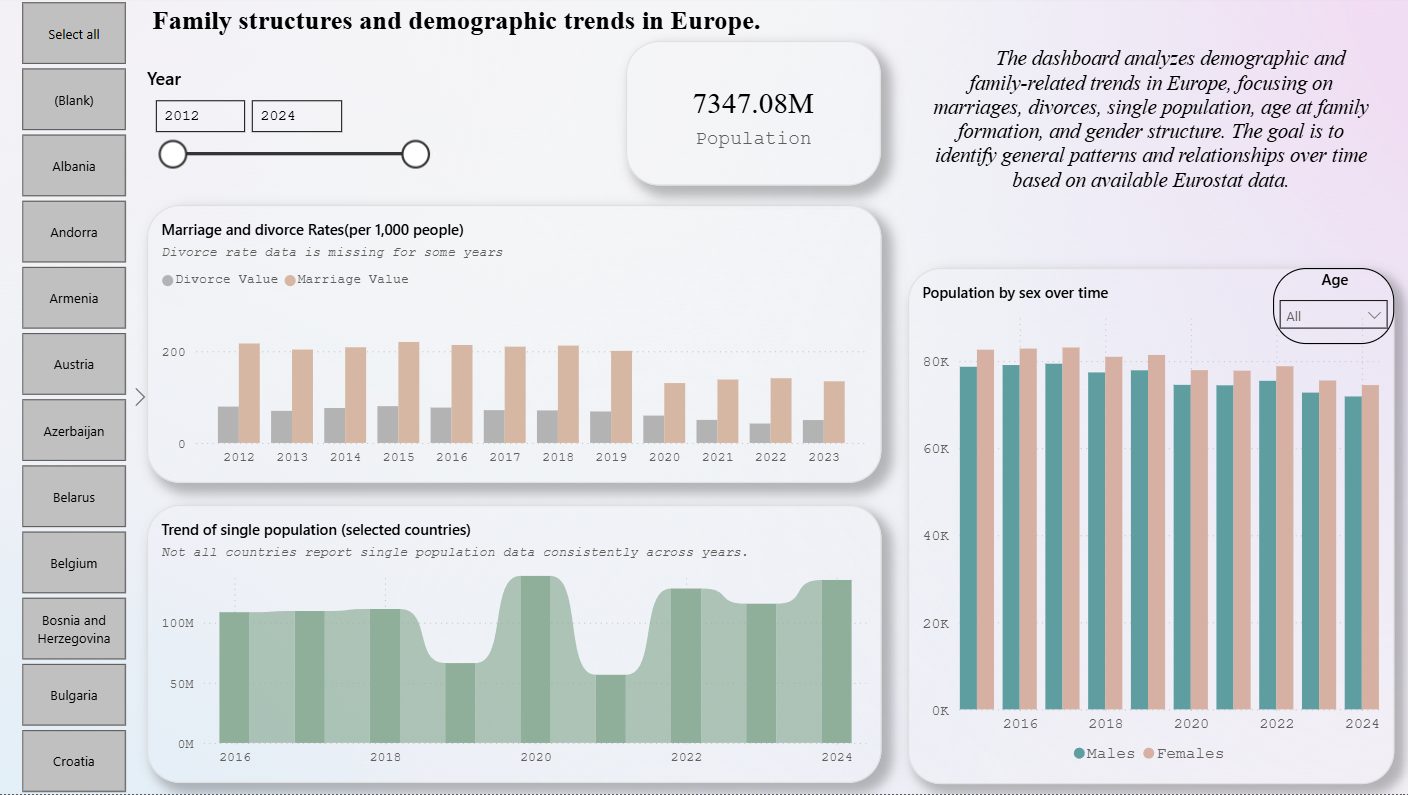

Layout of this report page (visuals, bound fields, positions):
{"tool":"powerbi","page":{"name":"Overview","canvas":[1280,720],"ordinal":0},"visuals":[{"type":"lineClusteredColumnComboChart","title":"Marriage and divorce Rates(per 1,000 people)","fields":{"Category":["Year.Year"],"Y":["Divorce rate.Divorce Value","Marriage rate.Marriage Value"]},"box":[134.2,185.9,665.6,252.1],"z":0},{"type":"slicer","fields":{"Values":["Geo.Geo"]},"box":[0,0,134,720],"z":1000},{"type":"ribbonChart","title":"Trend of single population (selected countries)","fields":{"Category":["Year.Year"],"Y":["Singles.Single Value"]},"box":[134.2,457.9,665.6,252.1],"z":2000},{"type":"slicer","title":"Year","fields":{"Values":["Year.Year"]},"box":[134.2,59.4,278.1,109.3],"z":3000},{"type":"clusteredColumnChart","title":"Population by sex over time","fields":{"Category":["Year.Year"],"Series":["Age/sex.Sex"],"Y":["Avg(Age/sex.Value)"]},"box":[824.6,242.6,441,467.9],"z":4000},{"type":"slicer","title":"Age","fields":{"Values":["Age/sex.age"]},"box":[1155.4,242.6,110.3,69],"z":5000},{"type":"card","fields":{"Values":["Sum(Population.Value)"]},"box":[568.6,37.4,231.1,131.4],"z":6000},{"type":"textbox","box":[837,37.4,415.2,148.6],"z":7000},{"type":"textbox","box":[134.2,0,616.6,59.8],"z":8000}]}

Visuals, with their boxes in screenshot pixels (x1, y1, x2, y2), scaled from the page's 1280x720 canvas onto the 1408x795 screenshot:
"Marriage and divorce Rates(per 1,000 people)" lineClusteredColumnComboChart: [148, 205, 880, 484]
slicer - Geo.Geo: [0, 0, 147, 794]
"Trend of single population (selected countries)" ribbonChart: [148, 506, 880, 784]
"Year" slicer: [148, 66, 454, 186]
"Population by sex over time" clusteredColumnChart: [907, 268, 1392, 785]
"Age" slicer: [1271, 268, 1392, 344]
card - Sum(Population.Value): [625, 41, 880, 186]
textbox: [921, 41, 1377, 205]
textbox: [148, 0, 826, 66]
